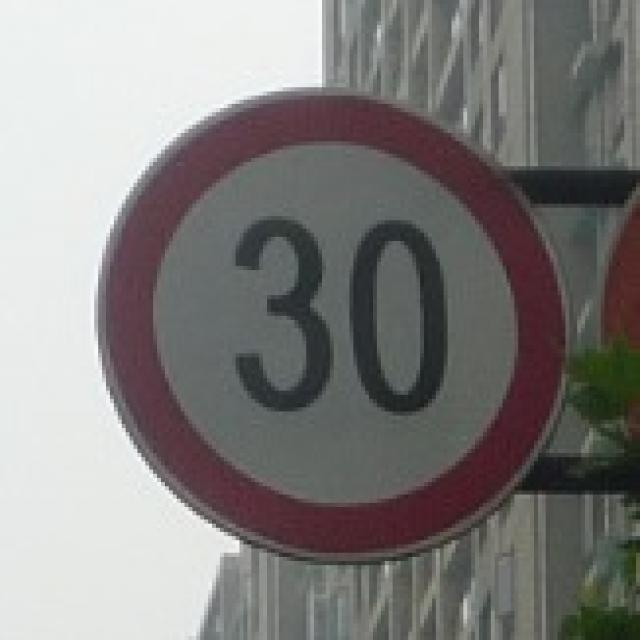Speed Limit -30-: (231, 214, 454, 420)
